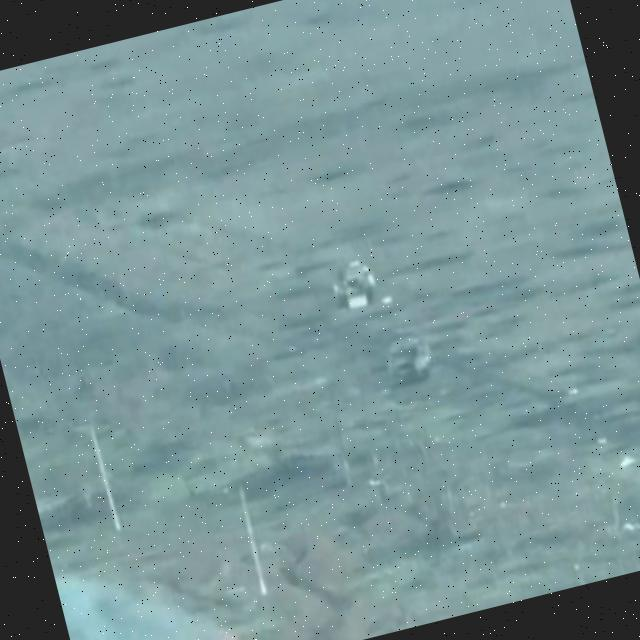AIFV: (329, 256, 383, 314)
